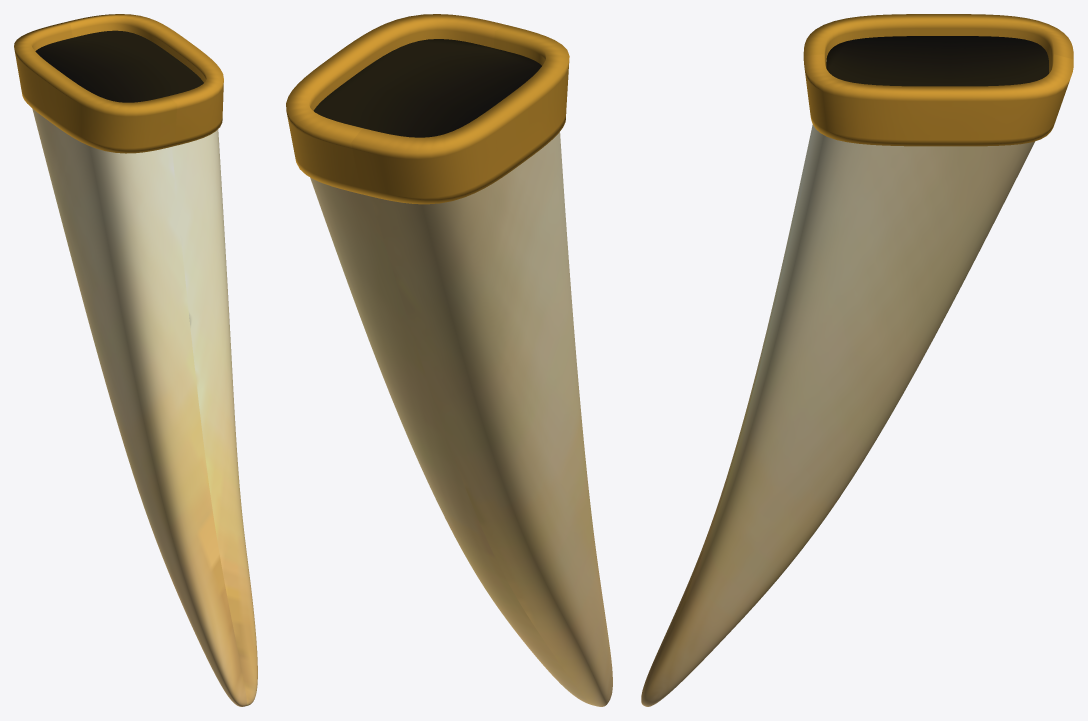
File: horn.fbx
The picture shows the model from 3 angles, left to right: view 1: azimuth 30°, elevation 25°; view 2: azimuth 150°, elevation 25°; view 3: azimuth 270°, elevation 25°; orthographic projection. The views are drawn at different scales.
Parts seen in each view (by area): view 1: Cube.001; view 2: Cube.001; view 3: Cube.001.
Boxes of the visible parts, x1,y1,x2,y2 form: Cube.001: [14, 14, 257, 706]; Cube.001: [286, 14, 612, 706]; Cube.001: [641, 14, 1073, 706].
Bounding box in the file's own units: 200 × 744 × 448.
